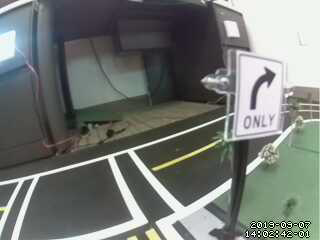Right_only_sign: (229, 50, 289, 133)
